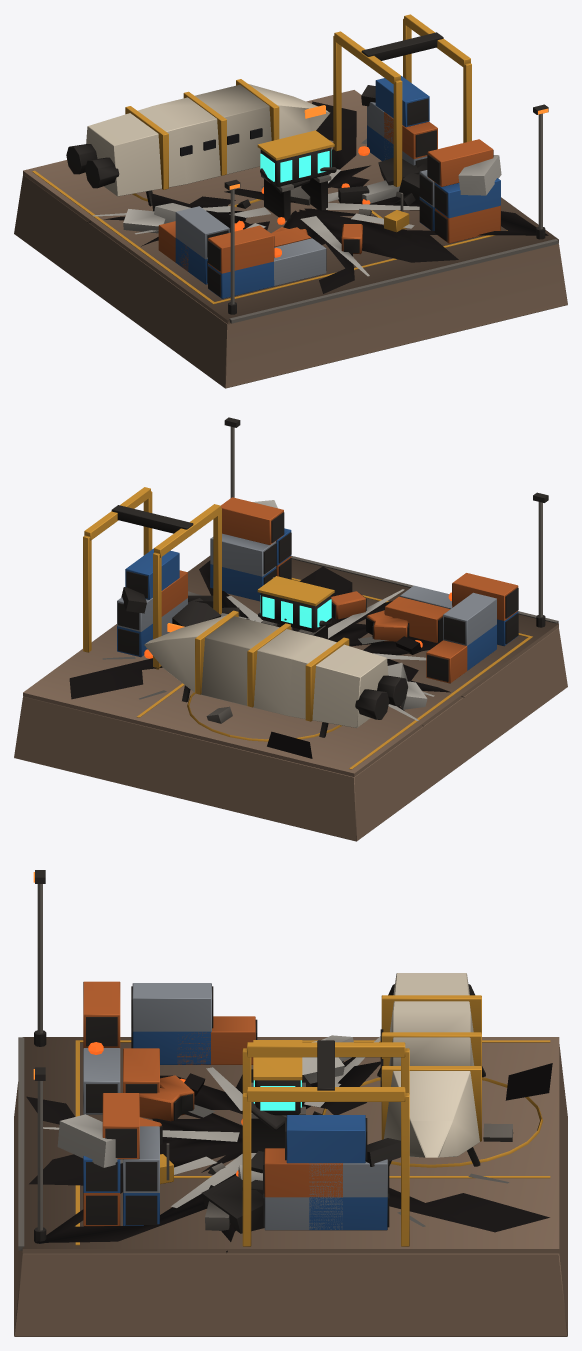
The model's file is freight-terminal-khepri.glb.
The picture shows the model from 3 angles, top to bottom: view 1: azimuth 30°, elevation 25°; view 2: azimuth 150°, elevation 25°; view 3: azimuth 270°, elevation 25°; orthographic projection. The views are drawn at different scales.
Visible parts, largest first — view 1: site_freight_terminal_khepri_body, site_freight_terminal_khepri_ruin, site_freight_terminal_khepri_core; view 2: site_freight_terminal_khepri_body, site_freight_terminal_khepri_ruin, site_freight_terminal_khepri_core; view 3: site_freight_terminal_khepri_body, site_freight_terminal_khepri_ruin, site_freight_terminal_khepri_core.
Boxes of the visible parts, x1,y1,x2,y2 form: site_freight_terminal_khepri_body: (14,14,567,388); site_freight_terminal_khepri_ruin: (87,85,548,293); site_freight_terminal_khepri_core: (257,130,334,186); site_freight_terminal_khepri_body: (14,417,567,841); site_freight_terminal_khepri_ruin: (69,500,464,758); site_freight_terminal_khepri_core: (257,576,334,632); site_freight_terminal_khepri_body: (14,870,567,1336); site_freight_terminal_khepri_ruin: (26,1035,552,1252); site_freight_terminal_khepri_core: (253,1040,302,1115).
Size of the model in its own units: 5.9 by 3.2 by 6.3.
